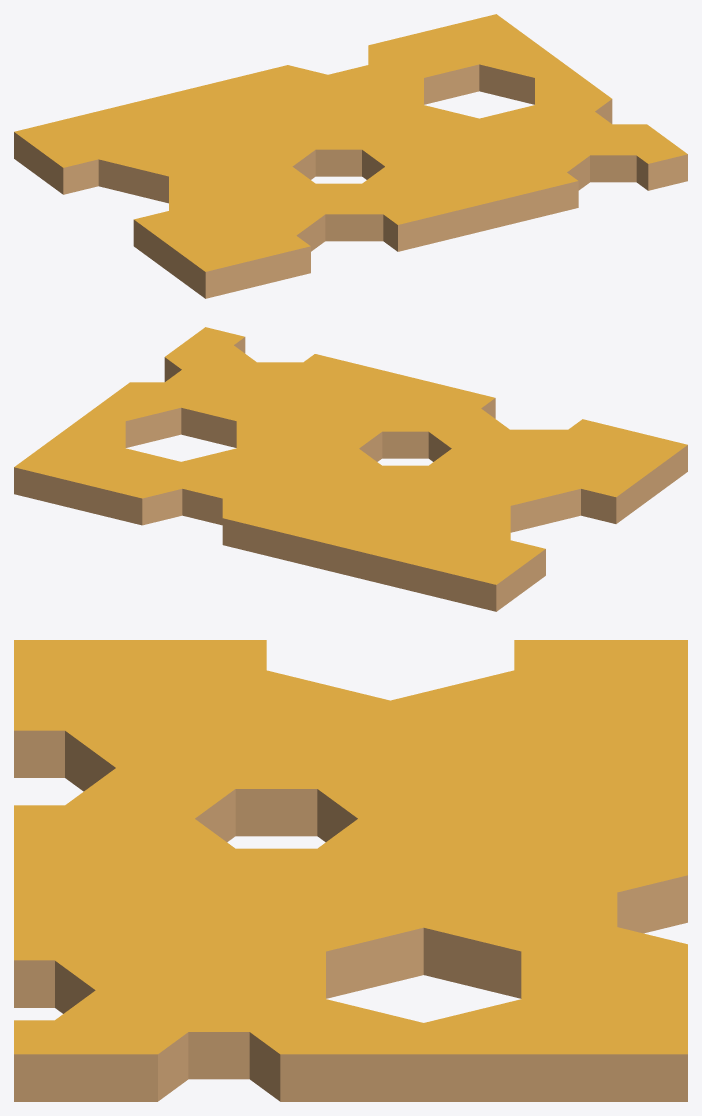
The model's file is cheeseCut.fbx.
3 renders of one model, top to bottom at view 1: azimuth 30°, elevation 25°; view 2: azimuth 150°, elevation 25°; view 3: azimuth 270°, elevation 25°, orthographic. The views are drawn at different scales.
Visible parts, largest first — view 1: cheeseCut; view 2: cheeseCut; view 3: cheeseCut.
Boxes of the visible parts, left/top/right/bottom form: cheeseCut: left=14, top=14, right=687, bottom=298; cheeseCut: left=14, top=327, right=687, bottom=611; cheeseCut: left=14, top=640, right=687, bottom=1101.
Bounding box in the file's own units: 3.84 × 0.2048 × 2.64.
